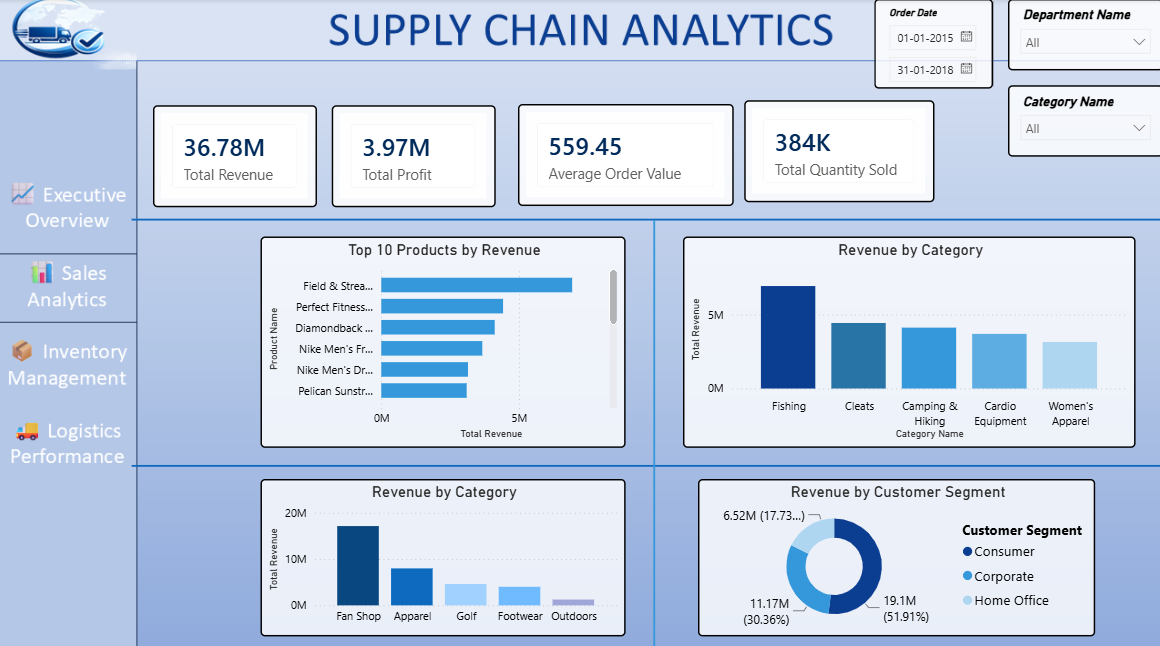

The dashboard page shown, as its layout file describes it:
{"tool":"powerbi","page":{"name":"Sales Analytics ","canvas":[1280,720],"ordinal":1},"visuals":[{"type":"cardVisual","fields":{"Data":["Measures (2).Total Revenue"]},"box":[170.1,117,179.8,112.2],"z":6000},{"type":"cardVisual","fields":{"Data":["Measures (2).Total Profit"]},"box":[366.8,117,179.8,112.2],"z":7000},{"type":"cardVisual","fields":{"Data":["Measures (2).Average Order Value"]},"box":[570.6,115.8,236.5,112.2],"z":8000},{"type":"cardVisual","fields":{"Data":["Measures (2).Total Quantity Sold"]},"box":[819.2,111,208.7,112.2],"z":9000},{"type":"clusteredBarChart","title":"Top 10 Products by Revenue","fields":{"Y":["Measures (2).Total Revenue"],"Category":["Dim_Product.Product Name"]},"box":[288.2,260.7,400.7,231.9],"z":10000},{"type":"shape","box":[146.8,223.7,1133.5,37],"z":11000},{"type":"shape","box":[688.9,242.9,63.1,263.5],"z":12000},{"type":"shape","box":[146.8,506.3,1133.5,12.3],"z":13000},{"type":"columnChart","title":"Revenue by Category","fields":{"Category":["Dim_Product.Category Name"],"Y":["Measures (2).Total Revenue"]},"box":[752,260.7,496.7,231.9],"z":14000},{"type":"columnChart","title":"Revenue by Category","fields":{"Y":["Measures (2).Total Revenue"],"Category":["Dim_Product.Department Name"]},"box":[288.2,526.9,400.7,172.9],"z":15000},{"type":"shape","box":[688.9,506.3,63.1,214.1],"z":16000},{"type":"donutChart","title":"Revenue by Customer Segment","fields":{"Y":["Measures (2).Total Revenue"],"Category":["Dim_Customer.Customer Segment"]},"box":[768.4,526.9,436.4,172.9],"z":17000},{"type":"slicer","fields":{"Values":["Dim_Date.order date (DateOrders)"]},"box":[961.9,0,130.4,98.8],"z":18000},{"type":"slicer","fields":{"Values":["Dim_Product.Department Name"]},"box":[1108.8,0,170.2,78.2],"z":19000},{"type":"slicer","fields":{"Values":["Dim_Product.Category Name"]},"box":[1108.8,94.7,170.2,78.2],"z":20000},{"type":"actionButton","box":[11,188,135.8,82.3],"z":20001},{"type":"actionButton","box":[0,450.1,137.2,83.7],"z":20002},{"type":"actionButton","box":[9.6,374.6,137.2,83.7],"z":20003}]}

Visuals, with their boxes on the page's 1280x720 design canvas (x1, y1, x2, y2). These are canvas units, not pixel positions in the 1160x646 screenshot, which may show the page scaled, cropped or inside an application window:
cardVisual - Measures (2).Total Revenue: [left=170, top=117, right=350, bottom=229]
cardVisual - Measures (2).Total Profit: [left=367, top=117, right=547, bottom=229]
cardVisual - Measures (2).Average Order Value: [left=571, top=116, right=807, bottom=228]
cardVisual - Measures (2).Total Quantity Sold: [left=819, top=111, right=1028, bottom=223]
"Top 10 Products by Revenue" clusteredBarChart: [left=288, top=261, right=689, bottom=493]
shape: [left=147, top=224, right=1280, bottom=261]
shape: [left=689, top=243, right=752, bottom=506]
shape: [left=147, top=506, right=1280, bottom=519]
"Revenue by Category" columnChart: [left=752, top=261, right=1249, bottom=493]
"Revenue by Category" columnChart: [left=288, top=527, right=689, bottom=700]
shape: [left=689, top=506, right=752, bottom=720]
"Revenue by Customer Segment" donutChart: [left=768, top=527, right=1205, bottom=700]
slicer - Dim_Date.order date (DateOrders): [left=962, top=0, right=1092, bottom=99]
slicer - Dim_Product.Department Name: [left=1109, top=0, right=1279, bottom=78]
slicer - Dim_Product.Category Name: [left=1109, top=95, right=1279, bottom=173]
actionButton: [left=11, top=188, right=147, bottom=270]
actionButton: [left=0, top=450, right=137, bottom=534]
actionButton: [left=10, top=375, right=147, bottom=458]
